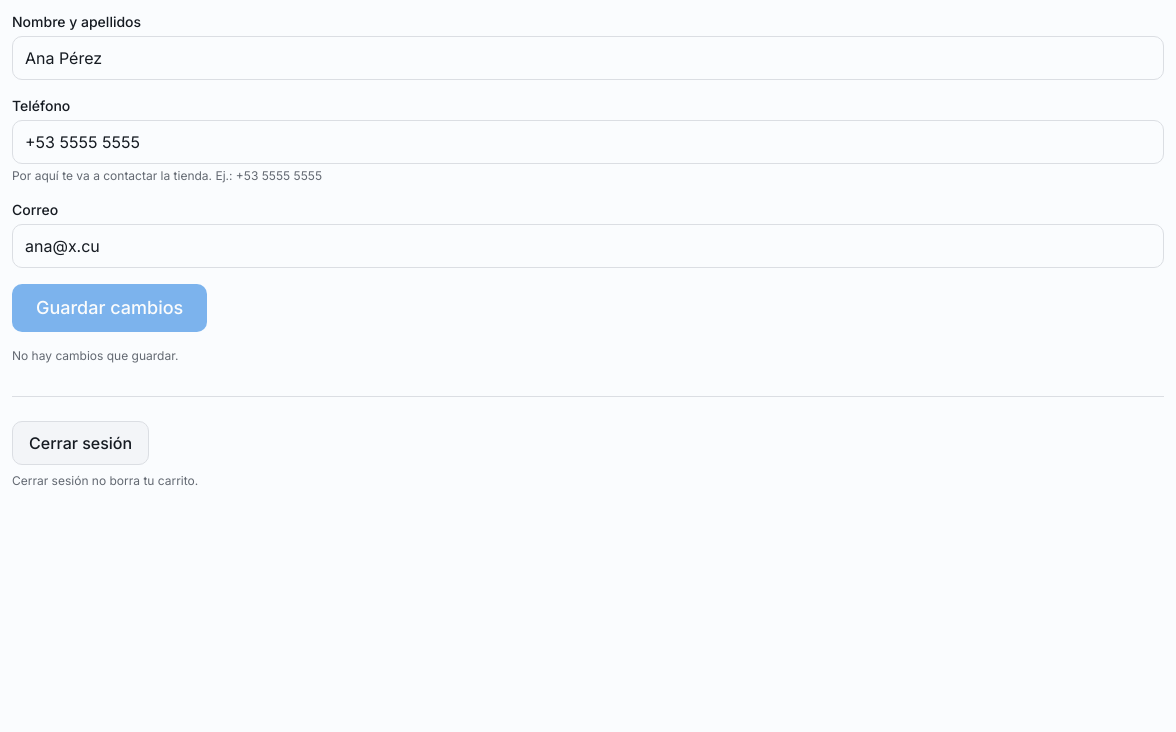
Test case: ProfileForm (design.md § 4, E9-E11) › un teléfono inválido no guarda nada y pinta el error de servidor (E10)
The image size is (1176, 732).
Replace the text in the field labelled "Teléfono" with "123" at (588, 142), box [12, 120, 1164, 164]
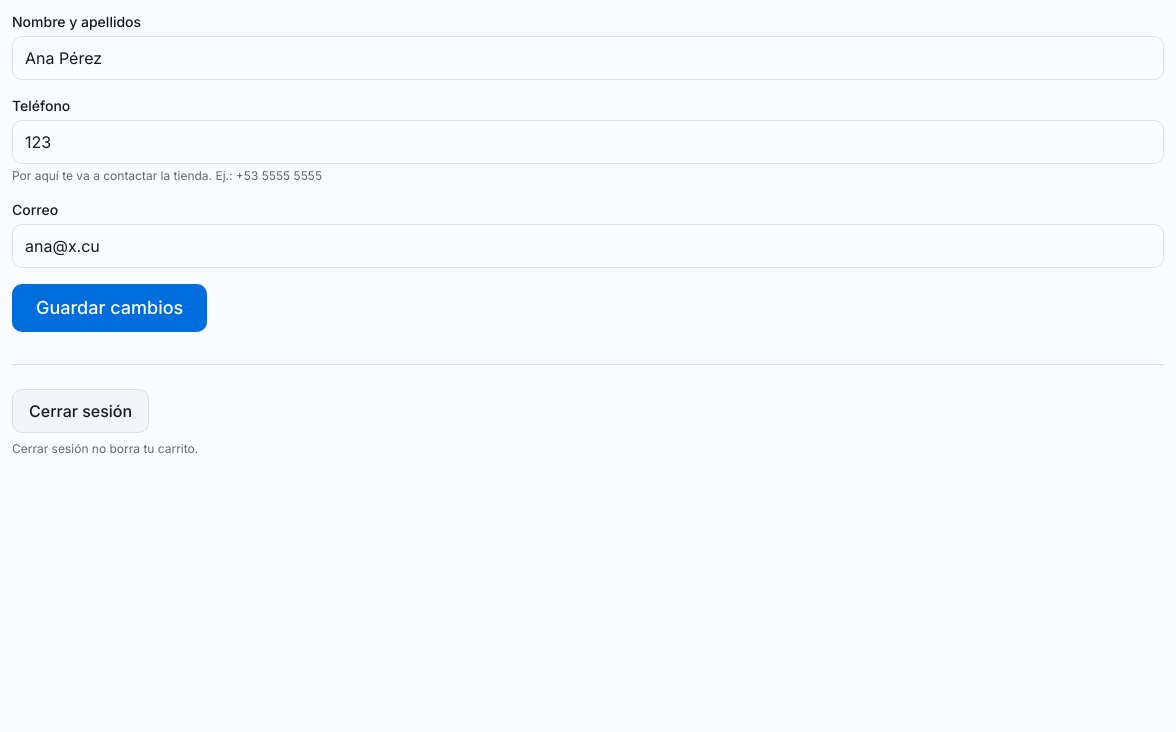
Click the button "Guardar cambios" at (110, 308), box [12, 284, 207, 332]
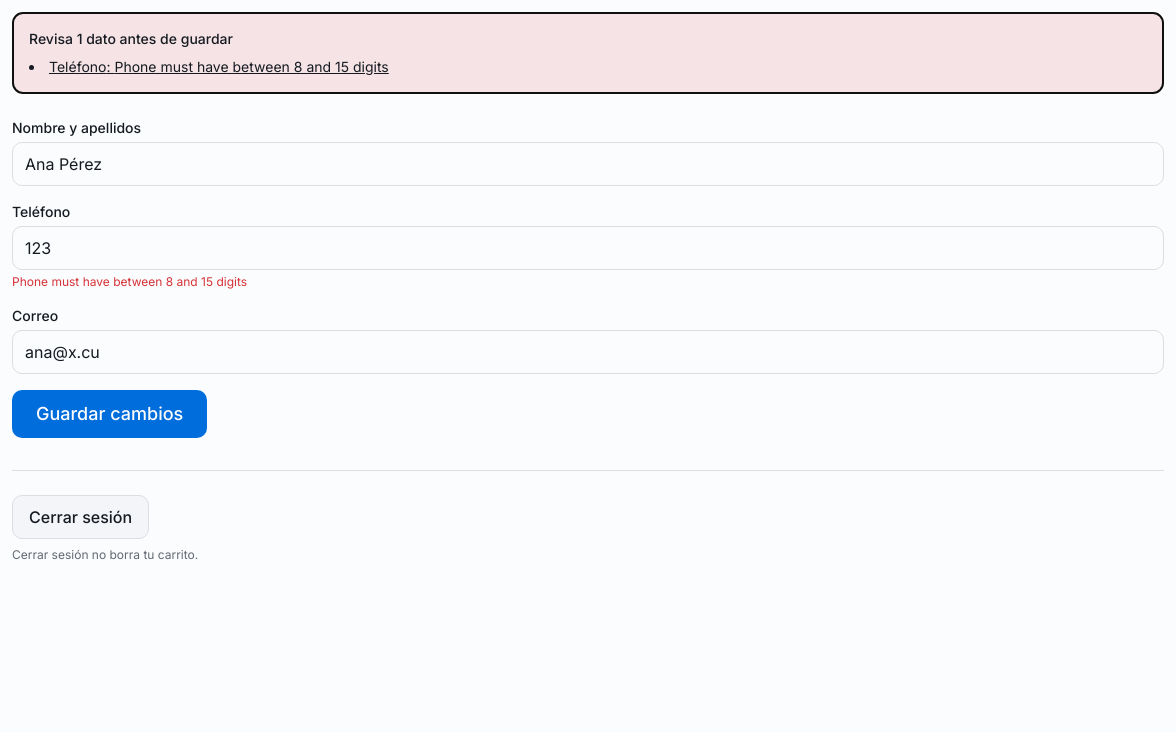
Expected: the field labelled "Nombre y apellidos" holds "Ana Pérez", [12, 142, 1164, 186]
Expected: the text "Revisa 1 dato antes de guardar" is shown, [29, 30, 233, 47]
